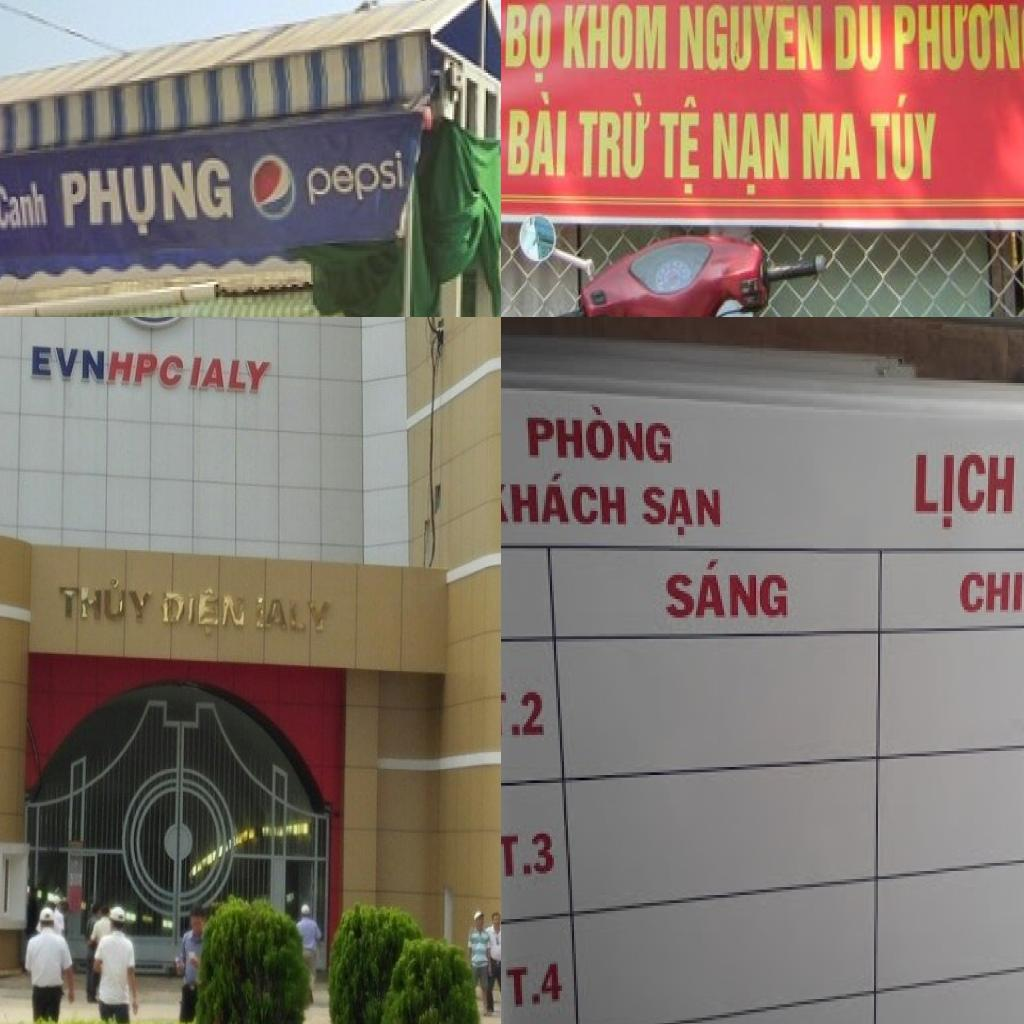text: (56, 155, 239, 246), (906, 436, 1024, 535), (673, 0, 824, 76), (520, 402, 686, 471), (888, 0, 1024, 78), (658, 554, 794, 631), (501, 468, 636, 540), (572, 82, 656, 188), (556, 0, 669, 76), (710, 99, 792, 199), (28, 344, 188, 395), (503, 82, 572, 189), (303, 148, 412, 215), (636, 471, 732, 540), (794, 104, 864, 193), (55, 576, 159, 630), (658, 87, 707, 199), (954, 551, 1024, 623), (501, 948, 574, 1017), (158, 587, 248, 640), (501, 0, 556, 85), (829, 0, 884, 83), (501, 817, 562, 889), (501, 673, 552, 751), (186, 354, 274, 395), (0, 176, 52, 235)
